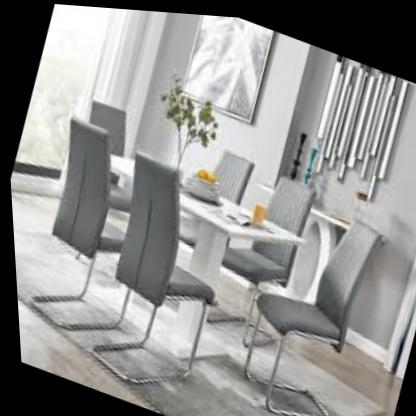Dining Table: (4, 80, 409, 416)
